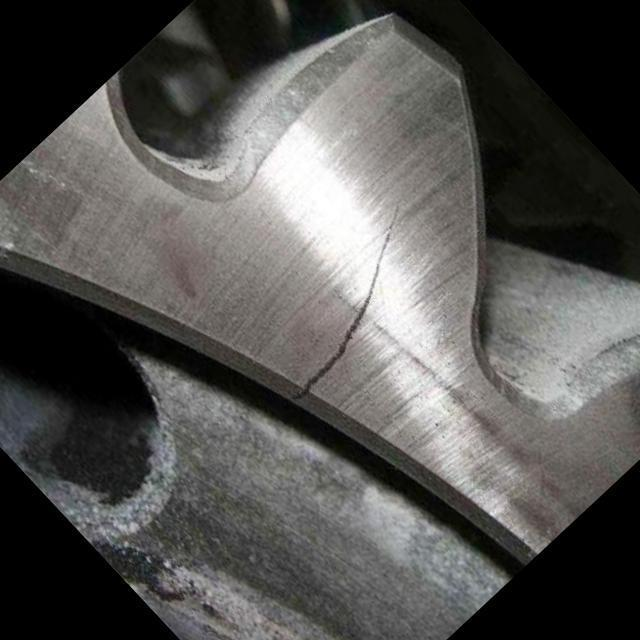defect: (286, 194, 404, 406)
